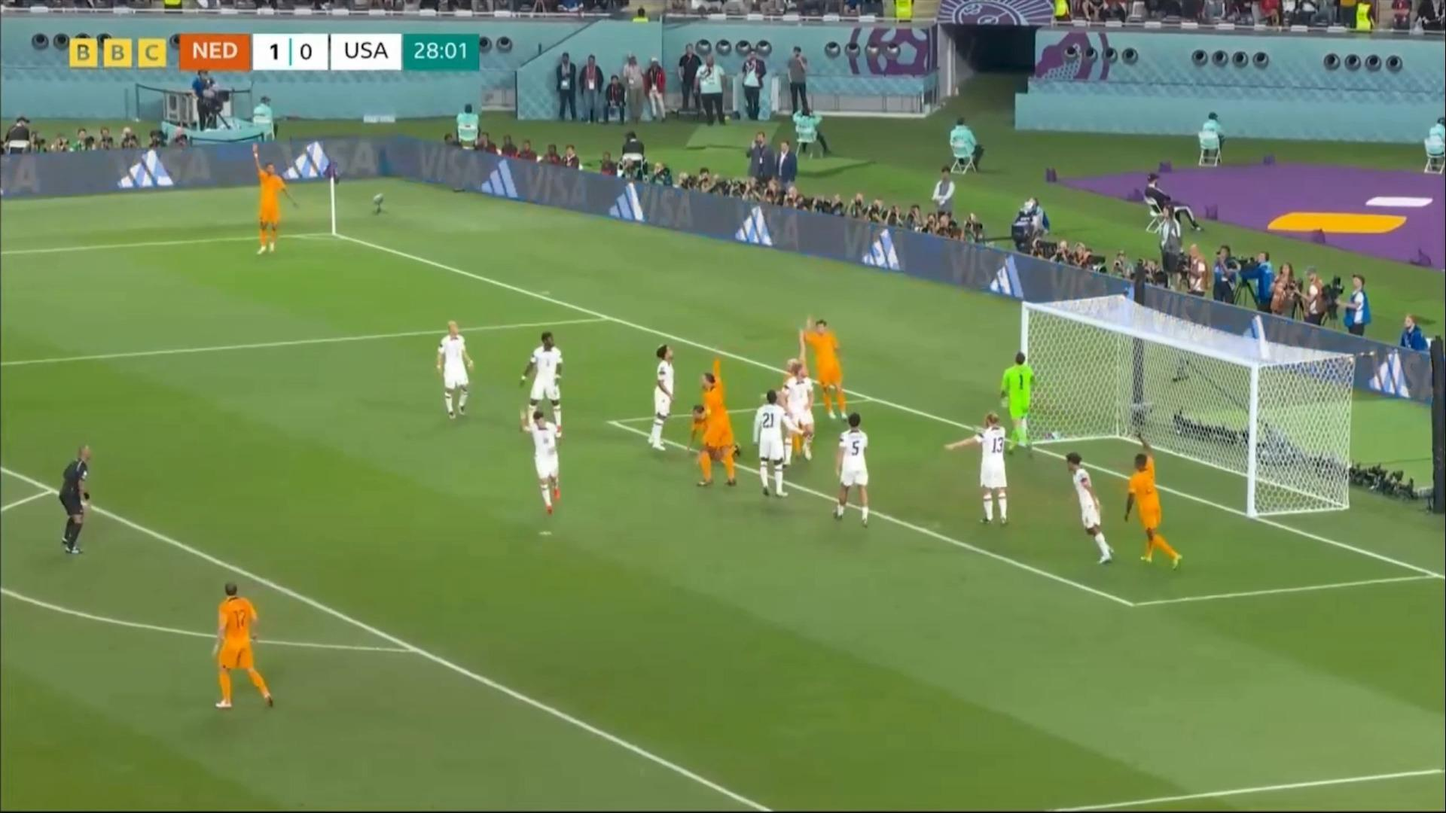Player: (206, 579, 274, 718), (1123, 430, 1181, 569), (687, 345, 742, 489), (946, 410, 1011, 530), (750, 391, 807, 503), (802, 312, 853, 421), (1065, 455, 1114, 568), (518, 333, 569, 439), (249, 142, 296, 257), (432, 317, 480, 424), (836, 412, 878, 529), (520, 410, 565, 518), (646, 345, 684, 451), (999, 351, 1035, 457), (781, 325, 807, 455), (782, 365, 814, 463), (690, 401, 742, 458)
Ref: (56, 443, 102, 567)
